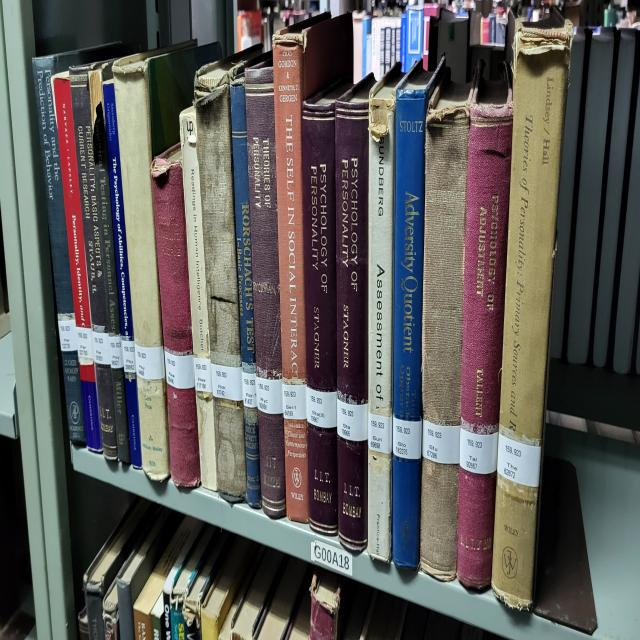Book: (112, 41, 222, 479), (491, 22, 572, 609), (272, 14, 352, 522), (458, 68, 512, 590), (392, 57, 445, 568), (32, 49, 100, 444), (420, 70, 472, 582), (195, 54, 248, 503), (302, 81, 350, 533), (335, 76, 375, 552), (70, 65, 118, 460), (245, 57, 286, 519), (151, 143, 200, 487), (368, 62, 401, 563), (89, 62, 130, 463), (102, 81, 141, 468), (180, 106, 218, 490), (230, 76, 261, 506), (52, 73, 91, 330)
Label: (498, 433, 541, 487), (459, 427, 499, 473), (422, 419, 460, 465), (338, 398, 368, 441), (306, 387, 338, 427), (392, 417, 421, 460), (165, 349, 195, 390), (211, 363, 242, 400), (256, 373, 282, 414), (368, 411, 392, 455), (135, 344, 165, 379), (282, 381, 306, 419), (58, 317, 78, 352), (92, 330, 111, 365), (76, 327, 94, 363), (241, 371, 258, 409), (194, 357, 212, 392), (121, 338, 136, 373), (109, 335, 124, 368)
